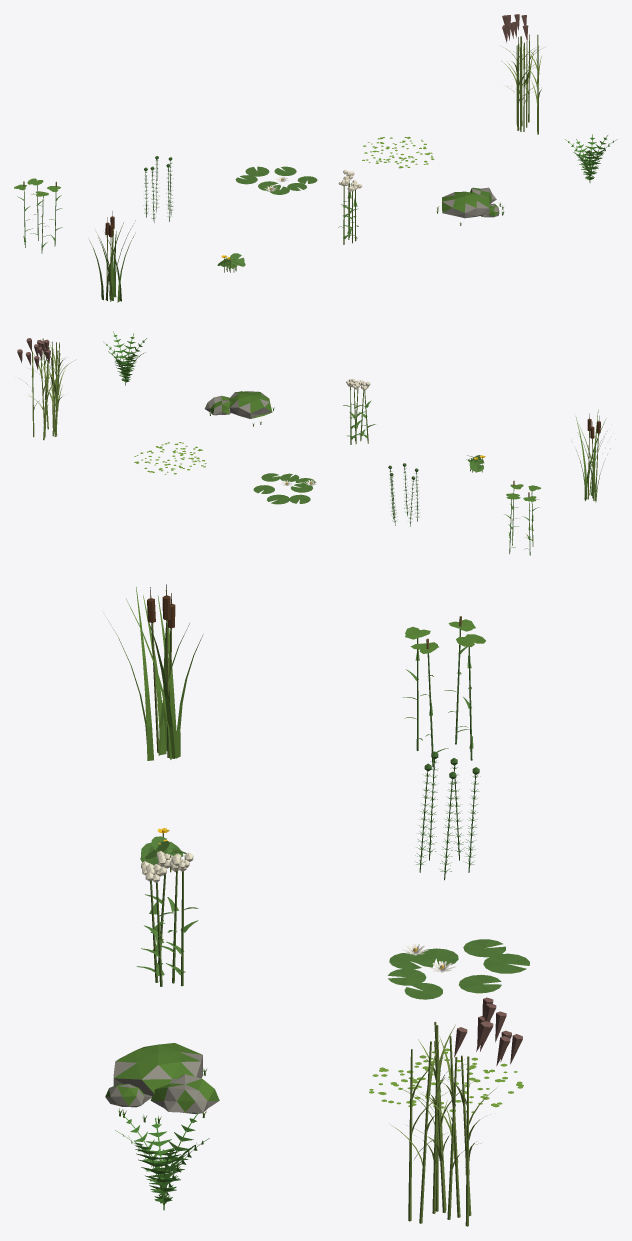
The model's file is vegetation_10_summer.glb.
3 renders of one model, top to bottom at view 1: azimuth 30°, elevation 25°; view 2: azimuth 150°, elevation 25°; view 3: azimuth 270°, elevation 25°, orthographic. The views are drawn at different scales.
Parts seen in each view (by area): view 1: Stones, bulrush, duckweed; view 2: Stones, bulrush, duckweed; view 3: Stones, reed (×4), bulrush, duckweed.
Boxes of the visible parts, <box> form: Stones: <box>442,187,499,218</box>; bulrush: <box>88,220,135,302</box>; duckweed: <box>362,137,434,168</box>; Stones: <box>204,391,272,418</box>; bulrush: <box>575,409,610,502</box>; duckweed: <box>134,442,206,474</box>; Stones: <box>105,1043,219,1114</box>; reed (×4): <box>389,1011,510,1223</box>; bulrush: <box>108,587,203,760</box>; duckweed: <box>369,1048,523,1112</box>.
Bounding box in the file's own units: 10.27 × 1.98 × 3.66.
